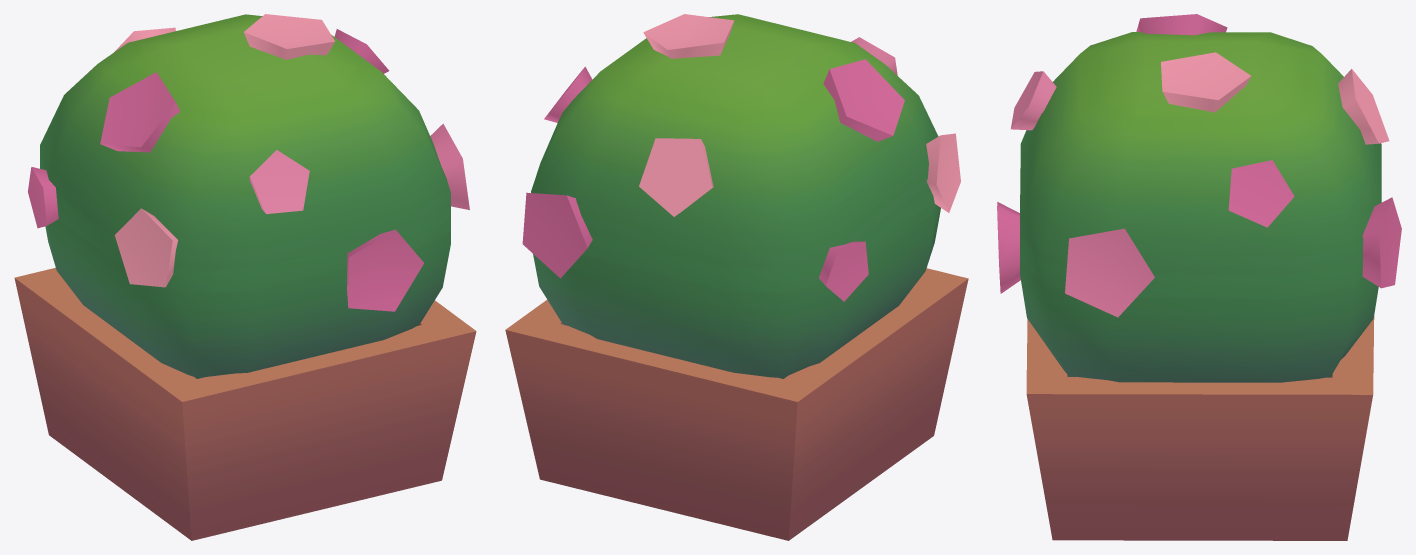
Rendered from village_town_potted_bush.glb.
The picture shows the model from 3 angles, left to right: view 1: azimuth 30°, elevation 25°; view 2: azimuth 150°, elevation 25°; view 3: azimuth 270°, elevation 25°; orthographic projection. The views are drawn at different scales.
Visible parts, largest first — view 1: Potted_Bush.001_Material.005_0; view 2: Potted_Bush.001_Material.005_0; view 3: Potted_Bush.001_Material.005_0.
Boxes of the visible parts, x1,y1,x2,y2 form: Potted_Bush.001_Material.005_0: (14, 14, 476, 540); Potted_Bush.001_Material.005_0: (505, 14, 968, 540); Potted_Bush.001_Material.005_0: (997, 14, 1401, 540).
Bounding box in the file's own units: 1.14 × 1.36 × 1.17.
Materials: 1 (1 with a texture image).
